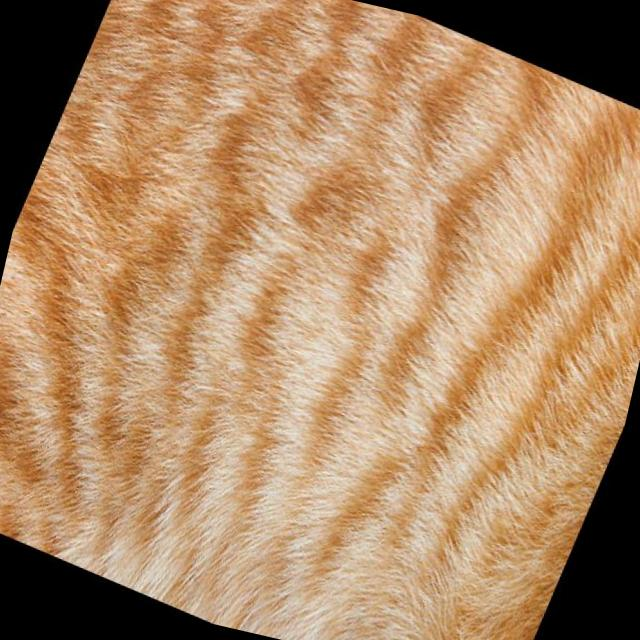Healthy skin: (0, 0, 484, 627), (318, 30, 640, 546), (269, 464, 555, 640)
